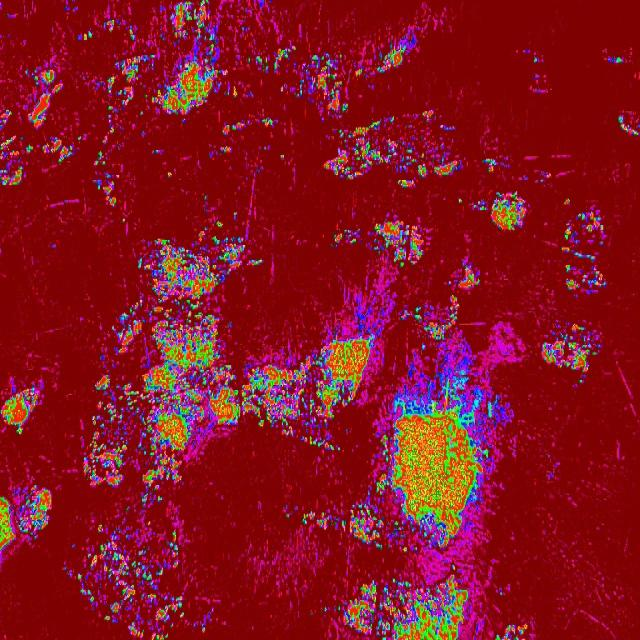fire: (116, 230, 245, 491), (374, 368, 512, 554), (244, 330, 376, 450), (65, 520, 187, 640), (323, 110, 466, 191), (150, 0, 230, 122), (335, 575, 470, 640), (538, 320, 604, 384), (92, 51, 152, 119), (293, 53, 362, 112), (562, 209, 609, 295), (82, 373, 116, 491), (0, 479, 56, 545), (402, 296, 465, 340), (371, 216, 422, 266), (24, 68, 65, 128), (0, 382, 44, 437), (364, 36, 422, 72), (0, 110, 23, 188), (348, 488, 374, 544), (23, 134, 74, 161), (492, 190, 527, 229), (445, 259, 481, 292), (298, 508, 347, 531), (91, 173, 122, 209), (268, 42, 296, 72), (494, 620, 532, 640), (332, 228, 362, 248), (616, 115, 640, 136), (138, 491, 166, 509), (208, 144, 236, 160), (221, 120, 252, 134), (480, 154, 499, 172), (536, 169, 554, 186), (102, 122, 116, 143), (102, 16, 118, 34), (126, 24, 140, 44), (253, 54, 268, 72), (282, 507, 296, 522), (247, 256, 264, 268), (95, 150, 108, 165), (77, 30, 93, 42), (471, 200, 487, 212), (259, 116, 275, 128), (606, 54, 625, 64), (562, 196, 574, 208), (232, 87, 240, 101), (198, 624, 208, 634), (276, 152, 286, 162), (166, 168, 173, 182), (150, 149, 162, 156), (215, 220, 225, 228), (201, 192, 209, 202), (529, 56, 540, 63), (232, 210, 238, 222), (120, 217, 128, 225), (452, 562, 458, 572), (457, 197, 464, 205), (420, 344, 428, 351), (499, 590, 505, 598), (77, 134, 82, 142), (247, 56, 251, 66), (141, 130, 147, 136), (324, 606, 327, 612)
